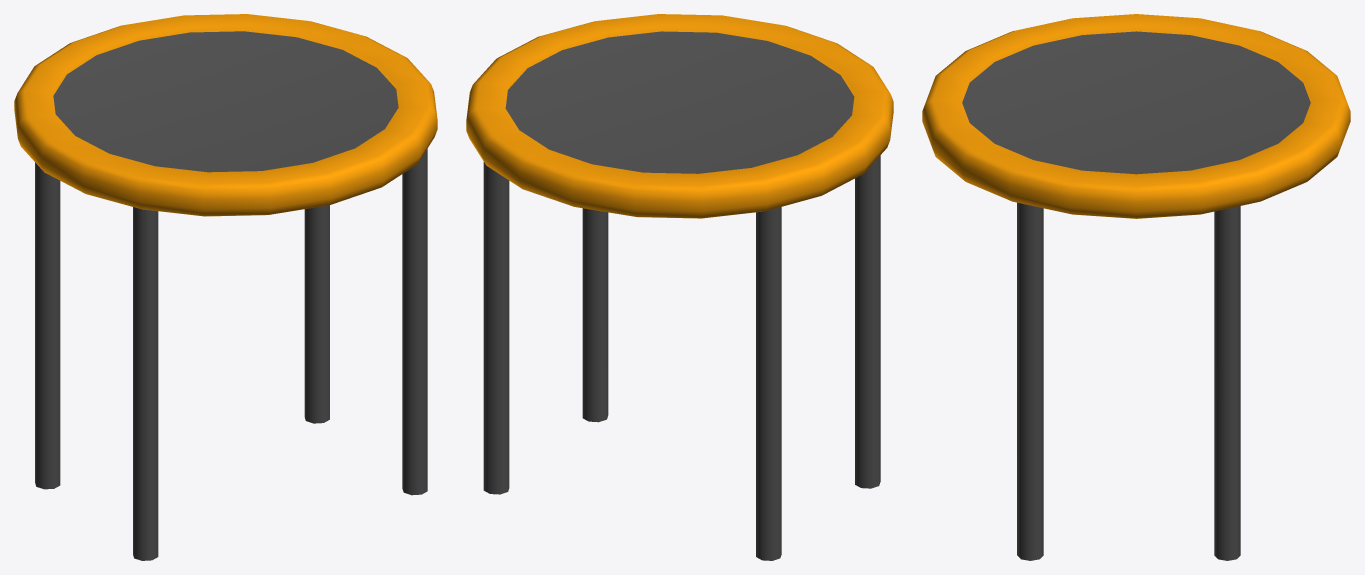
Rendered from jump.fbx.
3 views of the same model, side by side, from view 1: azimuth 30°, elevation 25°; view 2: azimuth 150°, elevation 25°; view 3: azimuth 270°, elevation 25° (orthographic).
Parts seen in each view (by area): view 1: jump; view 2: jump; view 3: jump.
Part boxes in pixels (x1,y1,x2,y2): jump: (14, 14, 437, 560); jump: (466, 14, 893, 560); jump: (922, 14, 1350, 560).
Size of the model in its own units: 922 by 922 by 922.
Materials: 1 (1 with a texture image).
